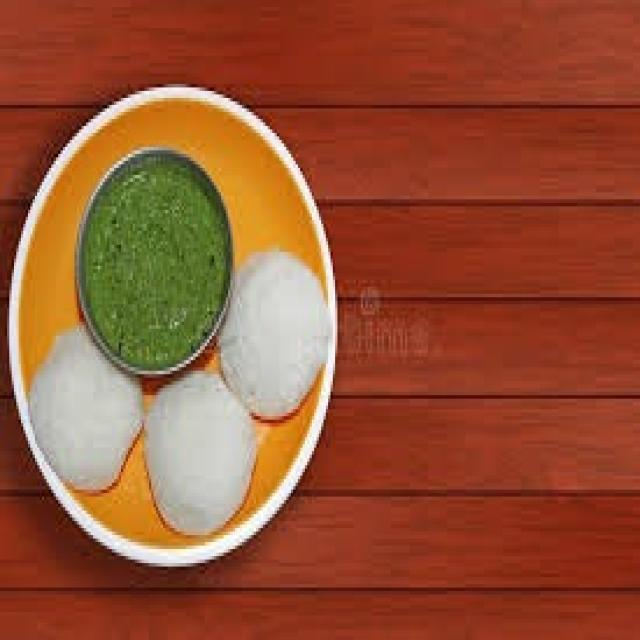puthina chutney: (78, 158, 222, 369)
